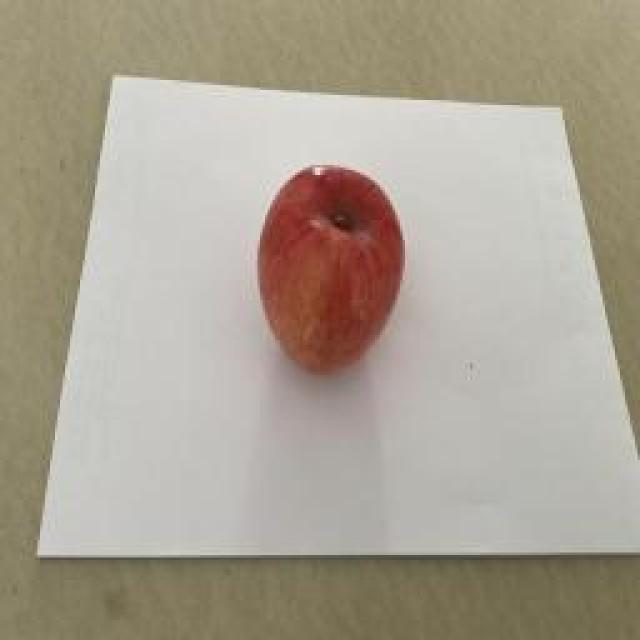apple: (258, 165, 404, 373)
